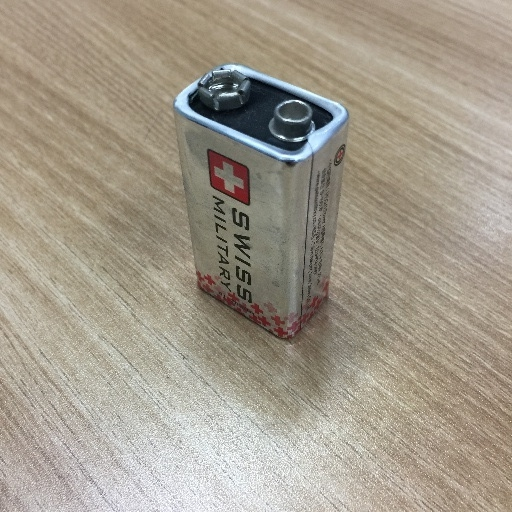Battery_3: (162, 47, 362, 364)
